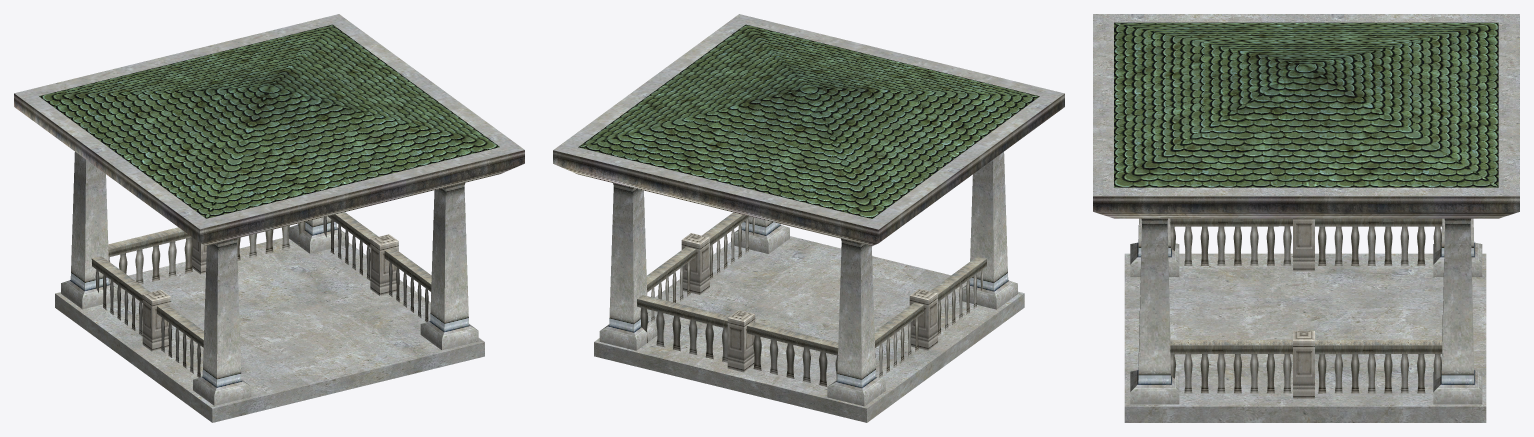
Rendered from rd_pav1.glb.
3 views of the same model, side by side, from view 1: azimuth 30°, elevation 25°; view 2: azimuth 150°, elevation 25°; view 3: azimuth 270°, elevation 25° (orthographic). The views are drawn at different scales.
Parts seen in each view (by area): view 1: rd_pav1; view 2: rd_pav1; view 3: rd_pav1.
Boxes of the visible parts, left/top/right/bottom form: rd_pav1: left=14, top=14, right=524, bottom=422; rd_pav1: left=553, top=14, right=1064, bottom=422; rd_pav1: left=1093, top=14, right=1519, bottom=422.
Size of the model in its own units: 5.96 by 4.28 by 5.9.
Materials: 6 (6 with a texture image).
